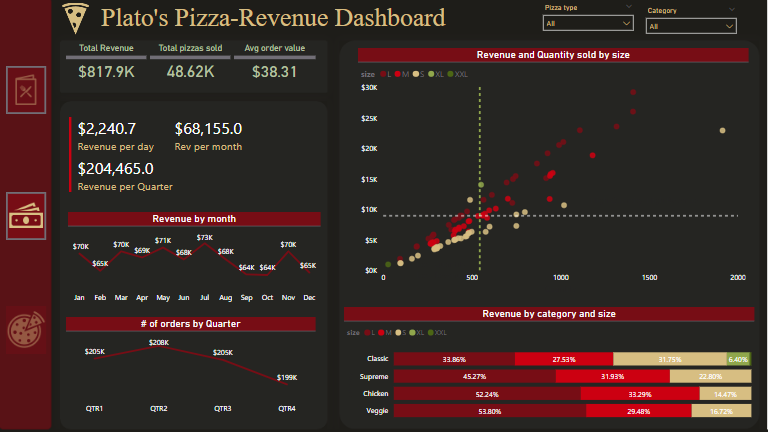

This screenshot's page, from the dashboard's own definition file:
{"tool":"powerbi","page":{"name":"Revenue","canvas":[1280,720],"ordinal":1},"visuals":[{"type":"textbox","box":[162.9,0,657.1,71.4],"z":0},{"type":"scatterChart","title":"Revenue and Quantity sold by size","fields":{"X":["Sum(order_details.quantity)"],"Y":["Sum(order_details.Sales)"],"Category":["pizza_types.name"],"Series":["pizzas.size"]},"box":[595.9,80,651.4,412.9],"z":0,"group":"g1"},{"type":"card","title":"Total Revenue","fields":{"Values":["Measures (2).Revenue"]},"box":[110,71.4,134.3,81.4],"z":1000},{"type":"textbox","box":[689.1,424.7,111.4,54.3],"z":1000,"group":"g1"},{"type":"slicer","fields":{"Values":["pizza_types.category"]},"box":[1067.1,4.3,171.4,62.9],"z":2000},{"type":"textbox","box":[978.5,318.6,230,34.3],"z":2000,"group":"g1"},{"type":"card","title":"Total pizzas sold","fields":{"Values":["CountNonNull(order_details.quantity)"]},"box":[250,71.4,134.3,80],"z":3000},{"type":"lineChart","title":"# of orders by Quarter","fields":{"Category":["Calendar.Quarter"],"Y":["Measures (2).Revenue"]},"box":[110,528.6,415.7,170],"z":4000},{"type":"lineChart","title":"Revenue by month","fields":{"Category":["Calendar.Month"],"Y":["Measures (2).Revenue"]},"box":[112.9,352.9,421.4,158.6],"z":5000},{"type":"multiRowCard","fields":{"Values":["Measures (2).Revenue per day","Measures (2).Rev per month","Measures (2).Revenue per Quarter"]},"box":[110.3,189.5,348,171.2],"z":8000},{"type":"image","box":[87.7,0,75,62.2],"z":9000},{"type":"slicer","fields":{"Values":["pizza_types.pizza_type_id"]},"box":[895.4,0,171.2,62.2],"z":11000},{"type":"card","title":"Avg order value","fields":{"Values":["Measures (2).avg order value"]},"box":[390,71.4,135.7,81.4],"z":12000},{"type":"actionButton","box":[10,320,67.1,80],"z":14000},{"type":"actionButton","box":[10,110,67.1,80],"z":15000},{"type":"actionButton","box":[10,510,67.1,80],"z":16000},{"type":"hundredPercentStackedBarChart","fields":{"Category":["pizza_types.category"],"Series":["pizzas.size"],"Y":["Measures (2).Revenue"]},"box":[572.9,511.4,684.3,200],"z":16001},{"type":"group","id":"g1","title":"Group 1","box":[595.9,80,651.4,412.9],"z":16002}]}

Visuals, with their boxes in screenshot pixels (x1, y1, x2, y2), scaled from the page's 1280x720 canvas onto the 768x432 screenshot:
textbox: [98,0,492,43]
"Revenue and Quantity sold by size" scatterChart: [358,48,748,296]
"Total Revenue" card: [66,43,147,92]
textbox: [413,255,480,287]
slicer - pizza_types.category: [640,3,743,40]
textbox: [587,191,725,212]
"Total pizzas sold" card: [150,43,231,91]
"# of orders by Quarter" lineChart: [66,317,315,419]
"Revenue by month" lineChart: [68,212,321,307]
multiRowCard - Measures (2).Revenue per day x Measures (2).Rev per month: [66,114,275,216]
image: [53,0,98,37]
slicer - pizza_types.pizza_type_id: [537,0,640,37]
"Avg order value" card: [234,43,315,92]
actionButton: [6,192,46,240]
actionButton: [6,66,46,114]
actionButton: [6,306,46,354]
hundredPercentStackedBarChart - pizza_types.category x pizzas.size: [344,307,754,427]
"Group 1" group: [358,48,748,296]
